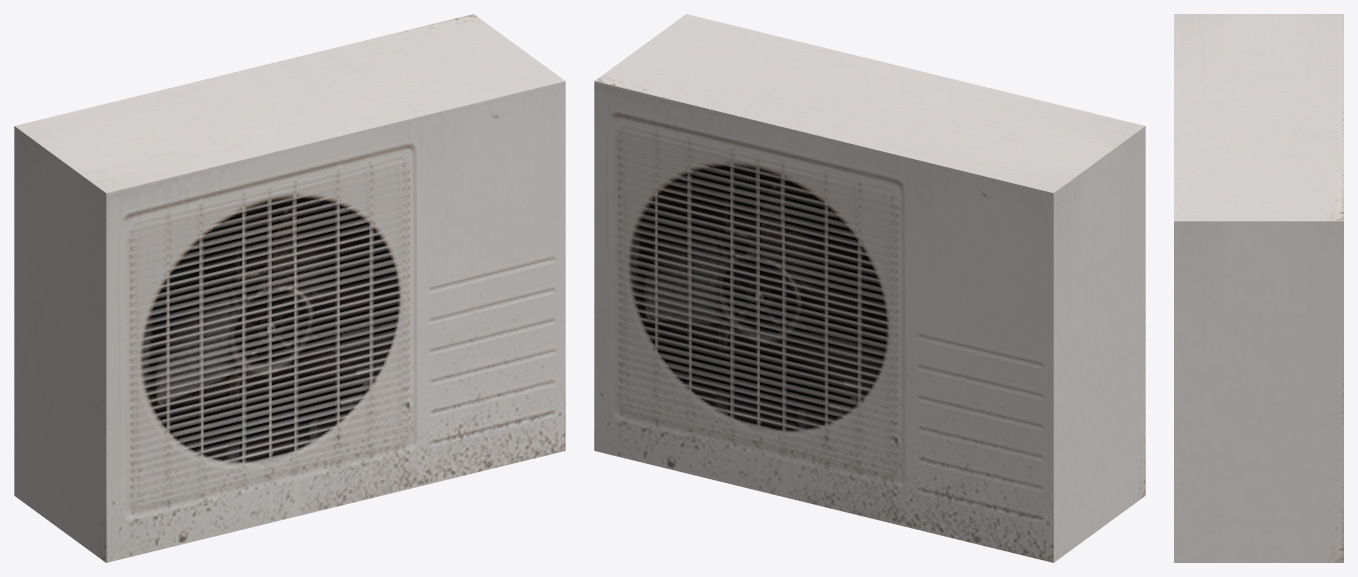
File: AirConditioner.FBX
The picture shows the model from 3 angles, left to right: view 1: azimuth 30°, elevation 25°; view 2: azimuth 150°, elevation 25°; view 3: azimuth 270°, elevation 25°; orthographic projection. The views are drawn at different scales.
Parts seen in each view (by area): view 1: AirConditioner; view 2: AirConditioner; view 3: AirConditioner.
Boxes of the visible parts, box(x1,y1,x2,y2) form: AirConditioner: box(14, 14, 565, 562); AirConditioner: box(594, 14, 1145, 562); AirConditioner: box(1174, 14, 1343, 562).
Size of the model in its own units: 130 by 100 by 45.
